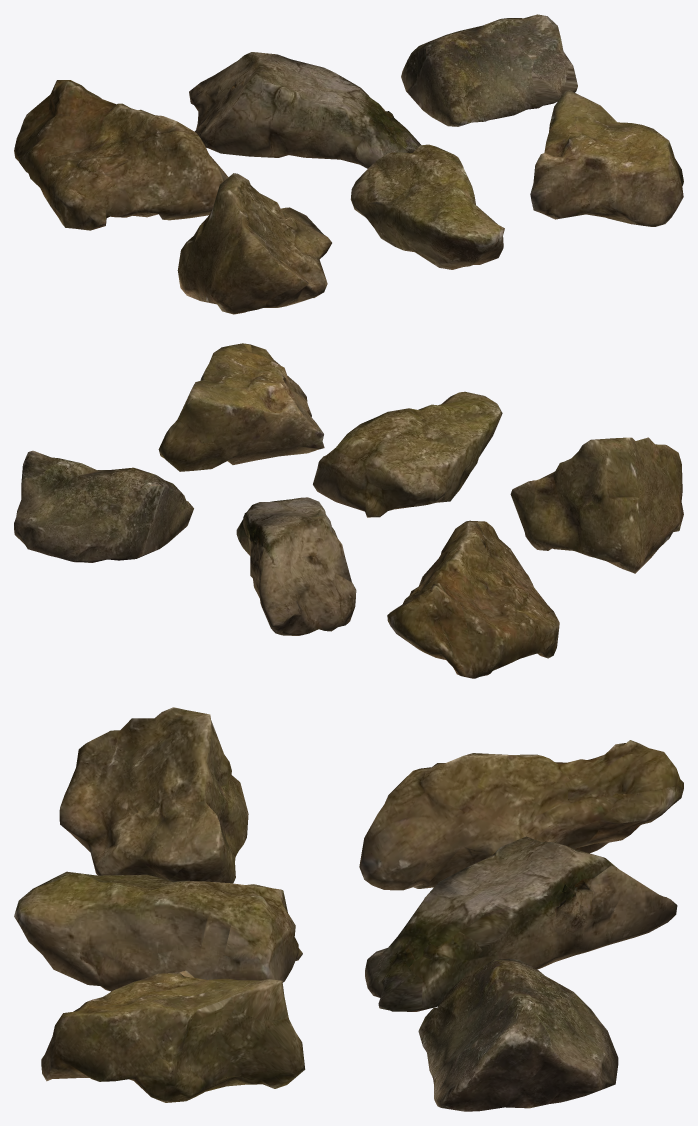
The model's file is rocks.glb.
3 views of the same model, one above another, from view 1: azimuth 30°, elevation 25°; view 2: azimuth 150°, elevation 25°; view 3: azimuth 270°, elevation 25° (orthographic). The views are drawn at different scales.
Parts seen in each view (by area): view 1: rock_moss_set_01_rock01; view 2: rock_moss_set_01_rock01; view 3: rock_moss_set_01_rock01.
Part boxes in pixels (left/top/right/bottom): rock_moss_set_01_rock01: left=14, top=14, right=683, bottom=314; rock_moss_set_01_rock01: left=14, top=343, right=683, bottom=678; rock_moss_set_01_rock01: left=14, top=707, right=683, bottom=1111.
Size of the model in its own units: 8 by 1.76 by 6.94.
Materials: 1 (1 with a texture image).
